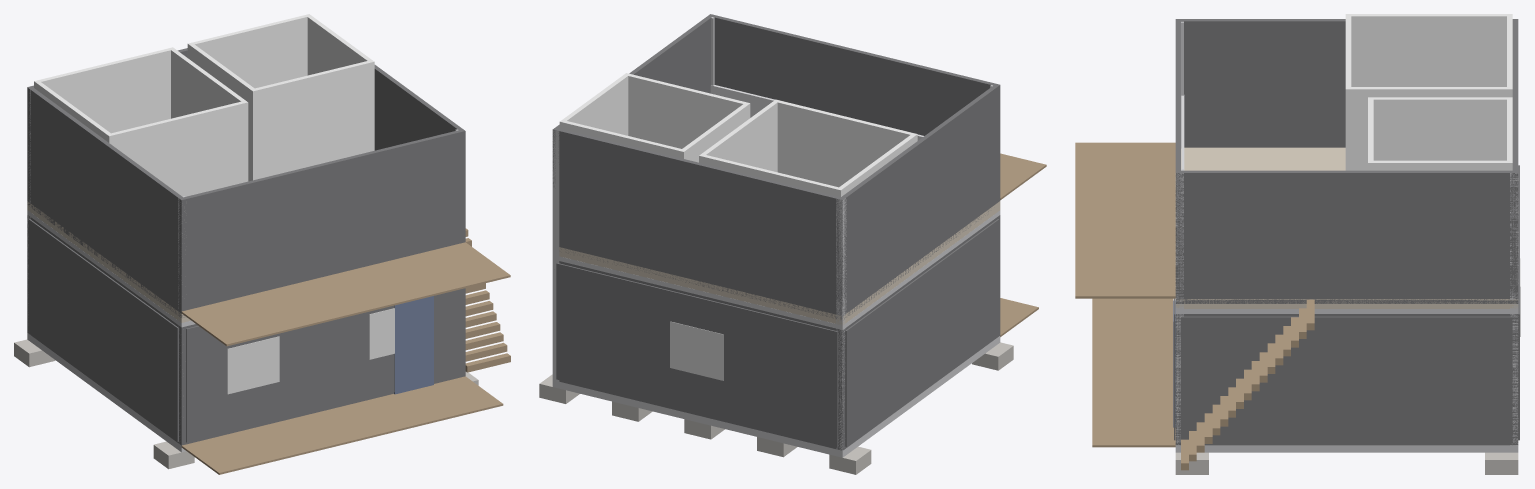
The model's file is Duplex-20-Base-CharcoalSilver-LOD2.glb.
The picture shows the model from 3 angles, left to right: view 1: azimuth 30°, elevation 25°; view 2: azimuth 150°, elevation 25°; view 3: azimuth 270°, elevation 25°; orthographic projection. The views are drawn at different scales.
Visible parts, largest first — view 1: ExteriorShellUpper, ExteriorPanelsStandard, StudyUpper, BedroomUpper, BalconyUpper, BalconyGround, WindowsStandard, EntryDoor, StaircaseExternal, ExteriorShell, FoundationBlocks, FloorUpper (+2 smaller); view 2: ExteriorShellUpper, ExteriorPanelsStandard, BedroomUpper, StudyUpper, FloorUpper, VerticalStructure, FoundationBlocks, BaseFrame, ExteriorShell, WindowsStandard, TopFrame, BalconyUpper (+2 smaller); view 3: ExteriorShellUpper, ExteriorPanelsStandard, BalconyUpper, BedroomUpper, BalconyGround, StudyUpper, FloorUpper, StaircaseExternal, ExteriorShell, VerticalStructure, BaseFrame, TopFrame (+1 smaller).
Part boxes in pixels (x1,y1,x2,y2): ExteriorShellUpper: (27,48,465,317); ExteriorPanelsStandard: (28,218,461,442); StudyUpper: (187,14,374,181); BedroomUpper: (34,47,248,196); BalconyUpper: (181,242,510,346); BalconyGround: (181,376,503,474); WindowsStandard: (227,308,394,394); EntryDoor: (394,296,433,394); StaircaseExternal: (465,228,510,372); ExteriorShell: (27,215,465,445); FoundationBlocks: (14,339,478,469); FloorUpper: (27,201,190,322); ExteriorShellUpper: (552,14,1000,319); ExteriorPanelsStandard: (556,219,999,447); BedroomUpper: (699,99,917,197); StudyUpper: (559,73,750,162); FloorUpper: (559,201,1000,325); VerticalStructure: (552,17,998,450); FoundationBlocks: (539,342,1013,474); BaseFrame: (552,336,1000,457); ExteriorShell: (559,215,1000,450); WindowsStandard: (670,321,723,380); TopFrame: (559,210,1000,329); BalconyUpper: (1000,153,1046,199); ExteriorShellUpper: (1175,19,1518,303); ExteriorPanelsStandard: (1174,165,1519,443); BalconyUpper: (1075,142,1175,298); BedroomUpper: (1345,14,1512,170); BalconyGround: (1092,298,1175,447); StudyUpper: (1368,97,1512,170); FloorUpper: (1175,147,1518,308); StaircaseExternal: (1181,299,1314,470); ExteriorShell: (1175,314,1518,445); VerticalStructure: (1175,21,1518,445); BaseFrame: (1175,445,1518,452); TopFrame: (1175,309,1518,313).
Size of the model in its own units: 7.94 by 6 by 8.
